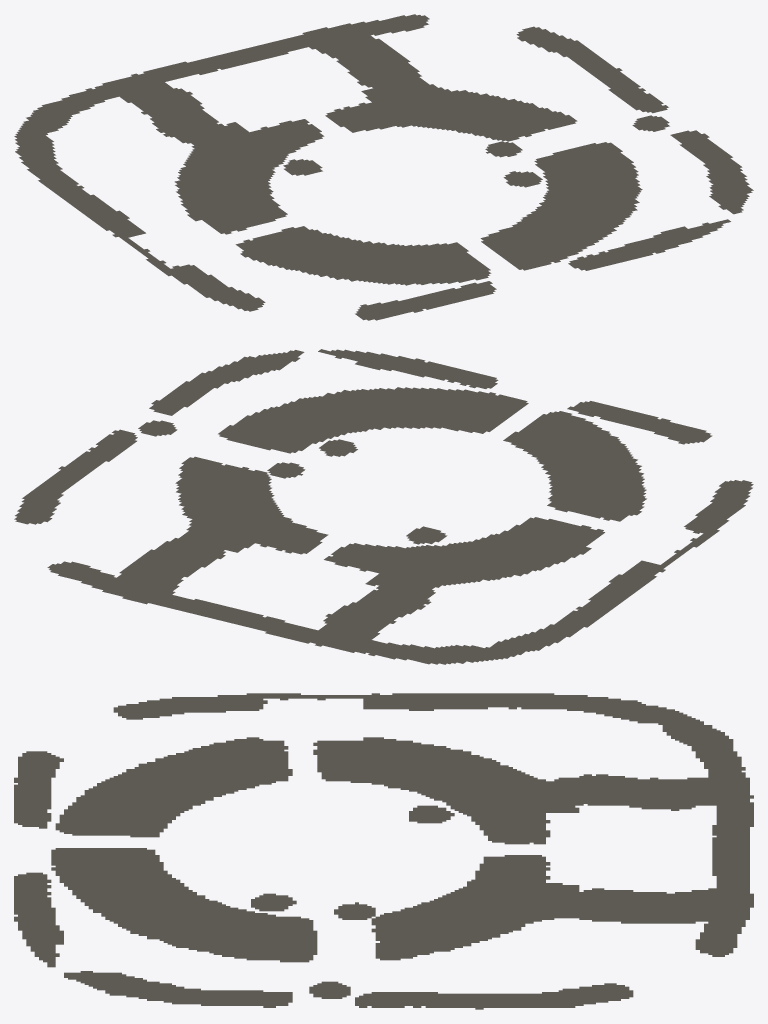
Rendered from Map-5-NoBuildArea.fbx.
3 views of the same model, one above another, from view 1: azimuth 30°, elevation 25°; view 2: azimuth 150°, elevation 25°; view 3: azimuth 270°, elevation 25° (orthographic). The views are drawn at different scales.
Parts seen in each view (by area): view 1: Map-5-NoBuildArea; view 2: Map-5-NoBuildArea; view 3: Map-5-NoBuildArea.
Part boxes in pixels (box(x1,y1,x2,y2)): Map-5-NoBuildArea: box(14, 14, 753, 320); Map-5-NoBuildArea: box(14, 349, 753, 664); Map-5-NoBuildArea: box(14, 693, 753, 1009).
Bounding box in the file's own units: 180 × 0 × 178.
